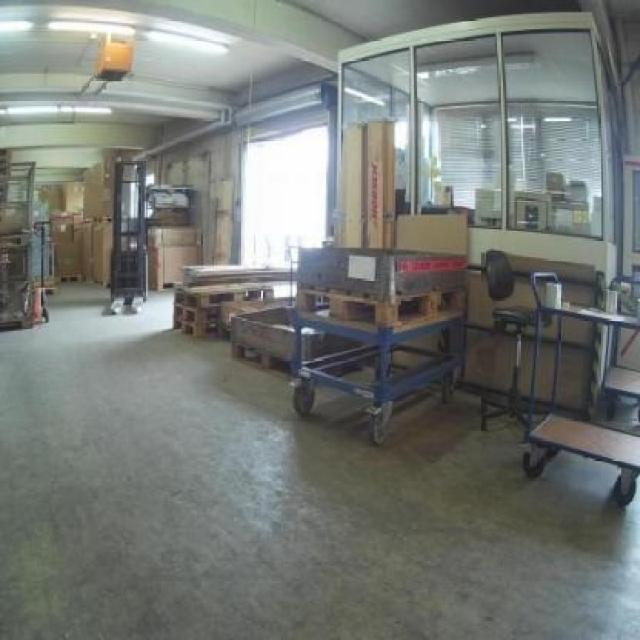floor: (0, 283, 637, 637)
pallets: (291, 245, 465, 442)
